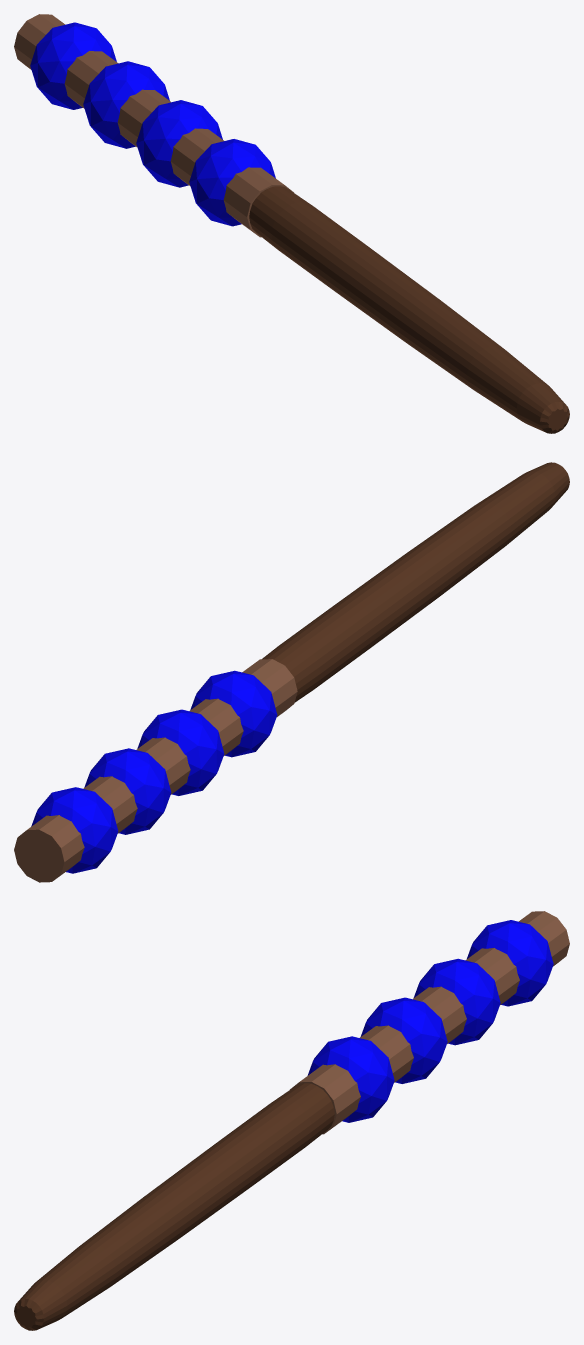
File: Wand 15.glb
3 views of the same model, one above another, from view 1: azimuth 30°, elevation 25°; view 2: azimuth 150°, elevation 25°; view 3: azimuth 330°, elevation 25° (orthographic).
Parts seen in each view (by area): view 1: GeneratedWand; view 2: GeneratedWand; view 3: GeneratedWand.
Boxes of the visible parts, left/top/right/bottom form: GeneratedWand: left=14, top=14, right=569, bottom=433; GeneratedWand: left=14, top=462, right=569, bottom=882; GeneratedWand: left=14, top=911, right=569, bottom=1330.
Size of the model in its own units: 0.0407 by 0.0428 by 0.5028.
